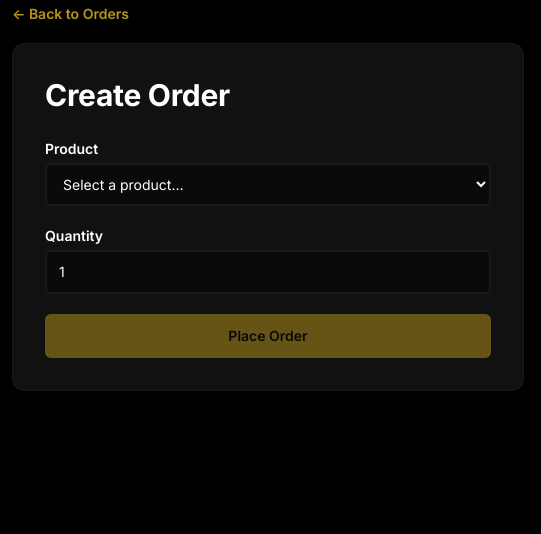
Test: CreateOrder › shows Placing Order… while mutation is pending
Select "Wireless Keyboard — $79.99" in the dropdown labelled "Product" at coordinates (268, 185), box [45, 163, 491, 206]
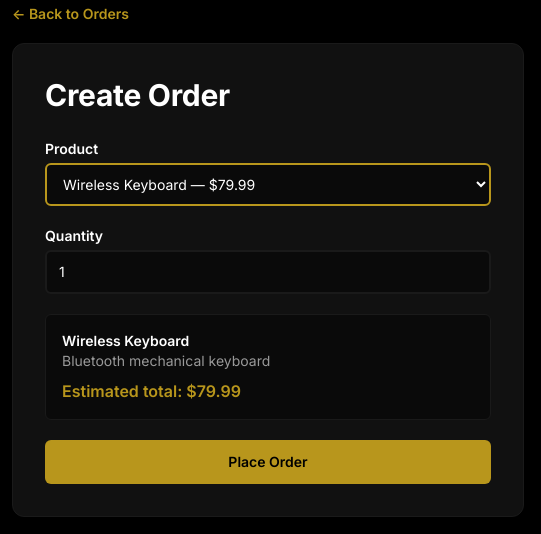
Click the button "Place Order" at coordinates (268, 462), box [45, 440, 491, 484]
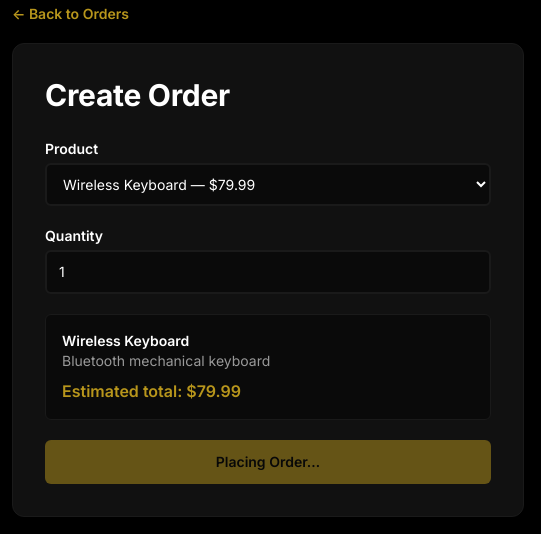
expect the button "Placing Order…" is shown: met, box [45, 440, 491, 484]
